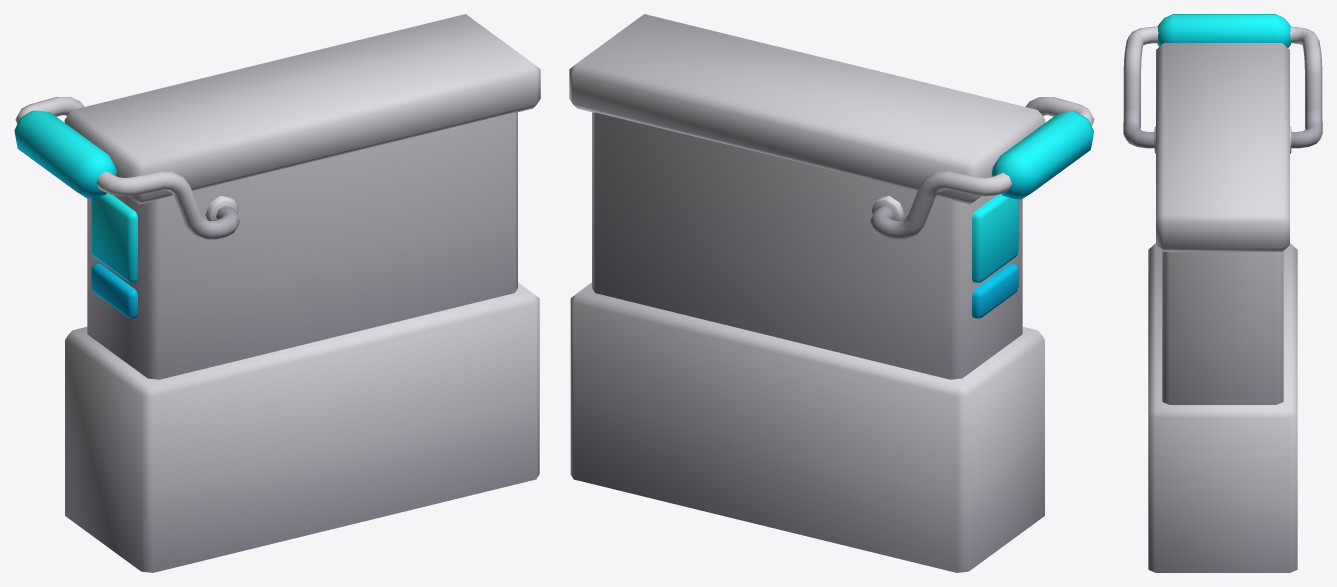
Rendered from General_FloorDeviceBaked5.fbx.
The picture shows the model from 3 angles, left to right: view 1: azimuth 30°, elevation 25°; view 2: azimuth 150°, elevation 25°; view 3: azimuth 270°, elevation 25°; orthographic projection. The views are drawn at different scales.
Visible parts, largest first — view 1: General_FloorDeviceBaked5, General_FloorDeviceBaked5_Bulb, General_FloorDeviceBaked5_Handles; view 2: General_FloorDeviceBaked5, General_FloorDeviceBaked5_Bulb, General_FloorDeviceBaked5_Handles; view 3: General_FloorDeviceBaked5, General_FloorDeviceBaked5_Handles, General_FloorDeviceBaked5_Bulb.
Boxes of the visible parts, bbox=[...] form: General_FloorDeviceBaked5: bbox=[64, 14, 540, 572]; General_FloorDeviceBaked5_Bulb: bbox=[14, 110, 116, 198]; General_FloorDeviceBaked5_Handles: bbox=[15, 97, 239, 239]; General_FloorDeviceBaked5: bbox=[569, 14, 1045, 572]; General_FloorDeviceBaked5_Bulb: bbox=[991, 111, 1093, 199]; General_FloorDeviceBaked5_Handles: bbox=[870, 97, 1094, 239]; General_FloorDeviceBaked5: bbox=[1148, 43, 1297, 572]; General_FloorDeviceBaked5_Handles: bbox=[1123, 26, 1322, 148]; General_FloorDeviceBaked5_Bulb: bbox=[1157, 14, 1290, 47].
Bounding box in the file's own units: 184 × 160 × 77.82.
